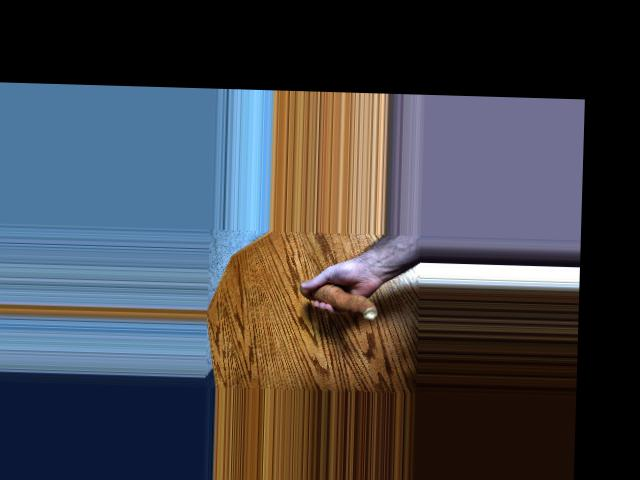sweet_potato: (295, 282, 383, 319)
